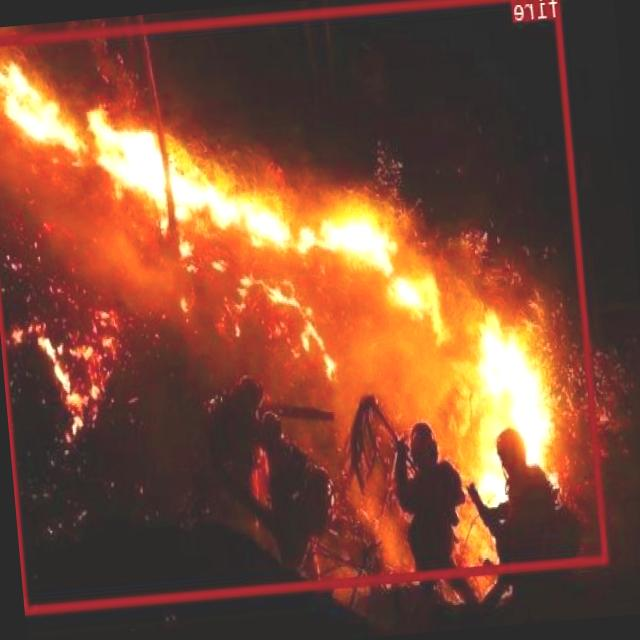fire: (0, 0, 610, 611)
